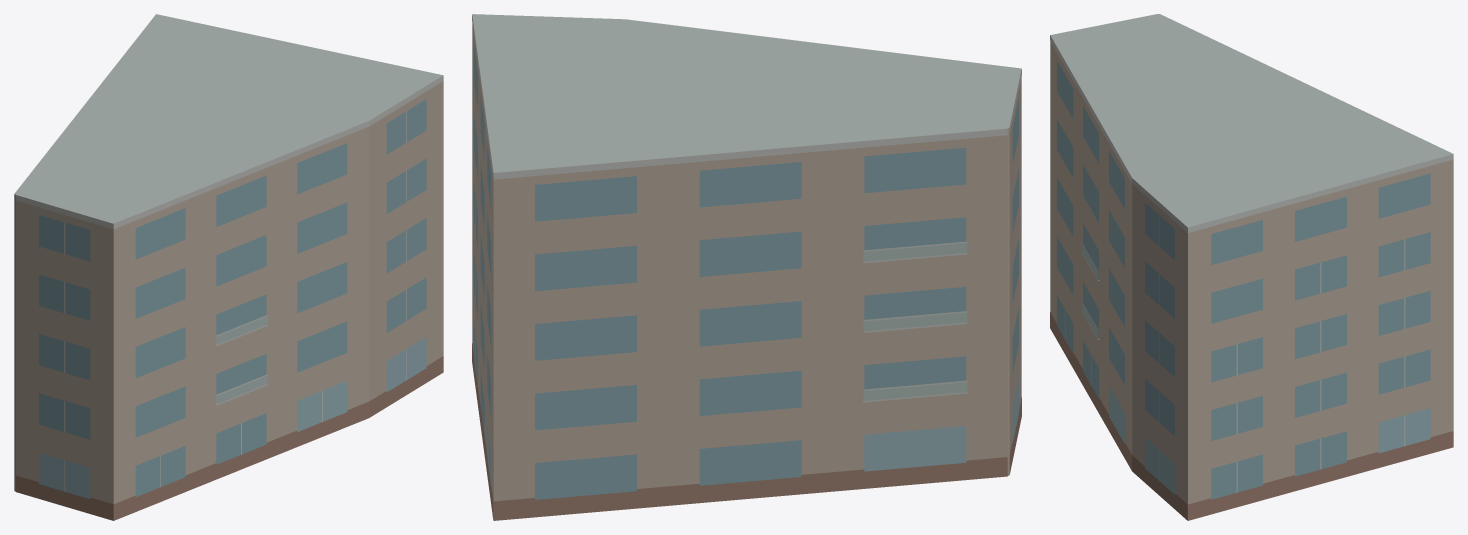
Rendered from survey-upis-33021547.glb.
The picture shows the model from 3 angles, left to right: view 1: azimuth 30°, elevation 25°; view 2: azimuth 150°, elevation 25°; view 3: azimuth 270°, elevation 25°; orthographic projection. The views are drawn at different scales.
Parts seen in each view (by area): view 1: survey-upis-33021547.tmp; view 2: survey-upis-33021547.tmp; view 3: survey-upis-33021547.tmp.
Part boxes in pixels (box(x1,y1,x2,y2)): survey-upis-33021547.tmp: box(14, 14, 443, 520); survey-upis-33021547.tmp: box(472, 14, 1021, 520); survey-upis-33021547.tmp: box(1050, 14, 1453, 520).
Size of the model in its own units: 20.31 by 13 by 16.22.
